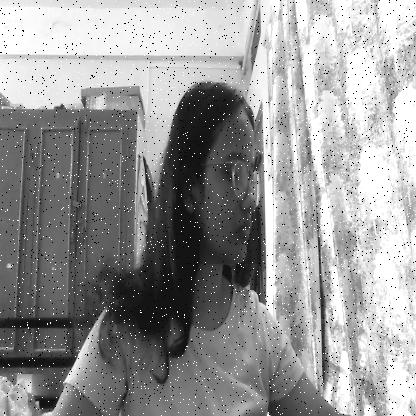Distracted: (178, 89, 261, 264)
